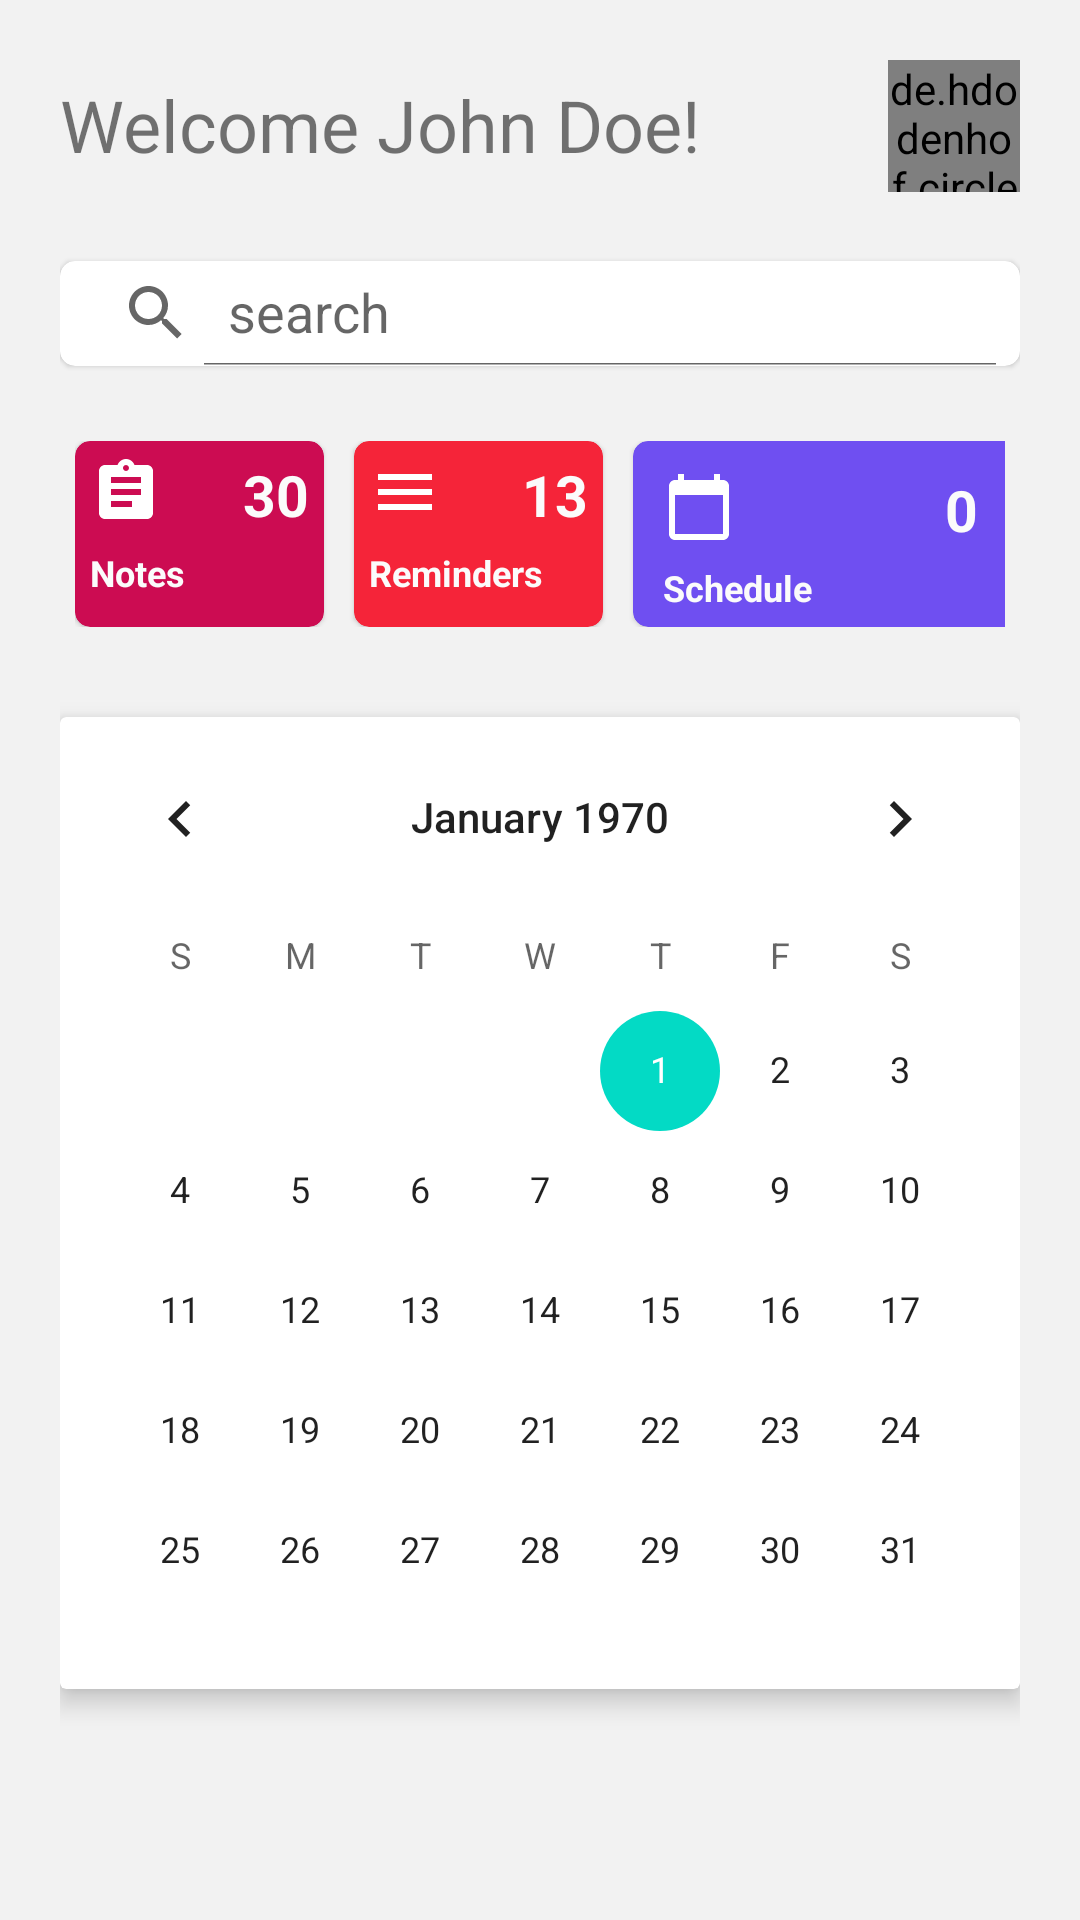

Icons on this 1080 × 1920 Android screen, each with the point to tap as point (x, y):
assignment: point (126, 489)
calendar today: point (699, 507)
menu: point (405, 492)
